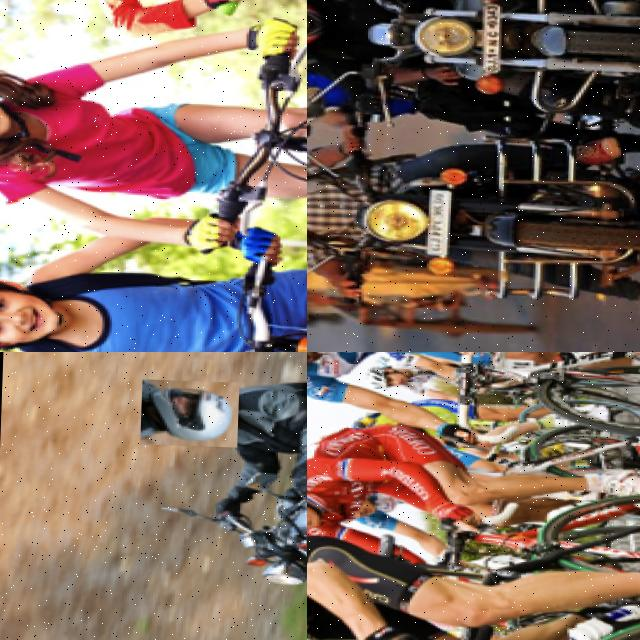helmet: (139, 378, 239, 447)
